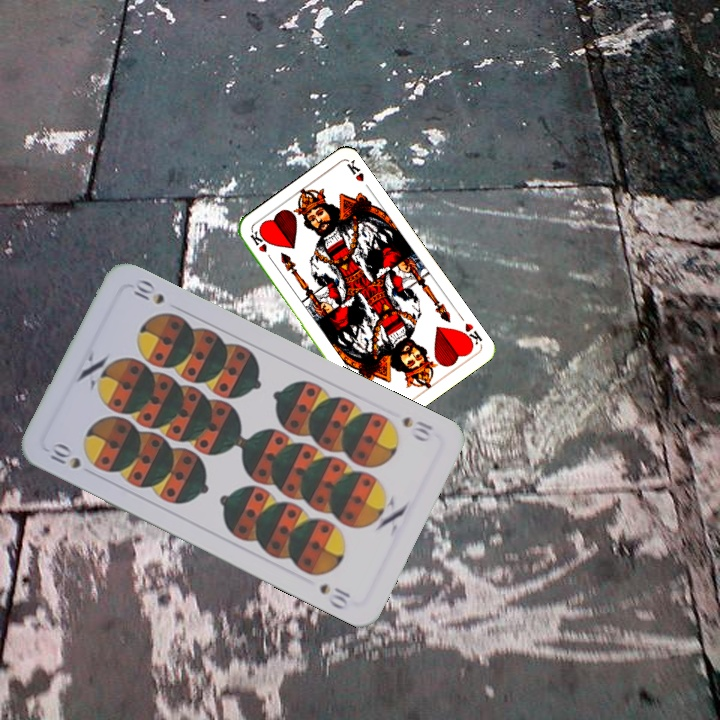HK: (246, 227, 276, 264), (456, 319, 485, 351)
S10: (43, 440, 84, 472), (398, 412, 436, 445)
